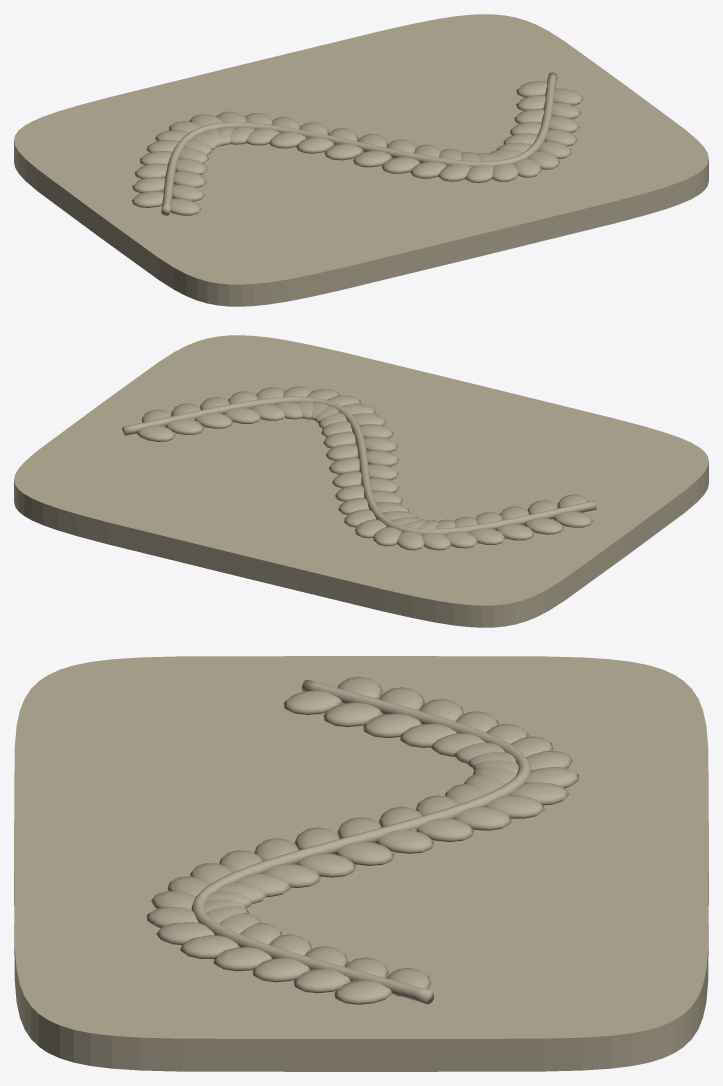
The model's file is nereites-lobed-meander.glb.
The picture shows the model from 3 angles, top to bottom: view 1: azimuth 30°, elevation 25°; view 2: azimuth 150°, elevation 25°; view 3: azimuth 270°, elevation 25°; orthographic projection. The views are drawn at different scales.
Visible parts, largest first — view 1: illustrative-sediment-host-for-positive-fossil-relief, raised-meandering-backfilled-axis-with-alternating-overlappi; view 2: illustrative-sediment-host-for-positive-fossil-relief, raised-meandering-backfilled-axis-with-alternating-overlappi; view 3: illustrative-sediment-host-for-positive-fossil-relief, raised-meandering-backfilled-axis-with-alternating-overlappi.
Part boxes in pixels (box(x1,y1,x2,y2)): illustrative-sediment-host-for-positive-fossil-relief: box(14, 14, 708, 306); raised-meandering-backfilled-axis-with-alternating-overlappi: box(131, 72, 583, 215); illustrative-sediment-host-for-positive-fossil-relief: box(14, 335, 708, 627); raised-meandering-backfilled-axis-with-alternating-overlappi: box(122, 386, 596, 550); illustrative-sediment-host-for-positive-fossil-relief: box(14, 656, 708, 1071); raised-meandering-backfilled-axis-with-alternating-overlappi: box(146, 676, 578, 1004).
Bounding box in the file's own units: 0.3 × 0.0163 × 0.23.
